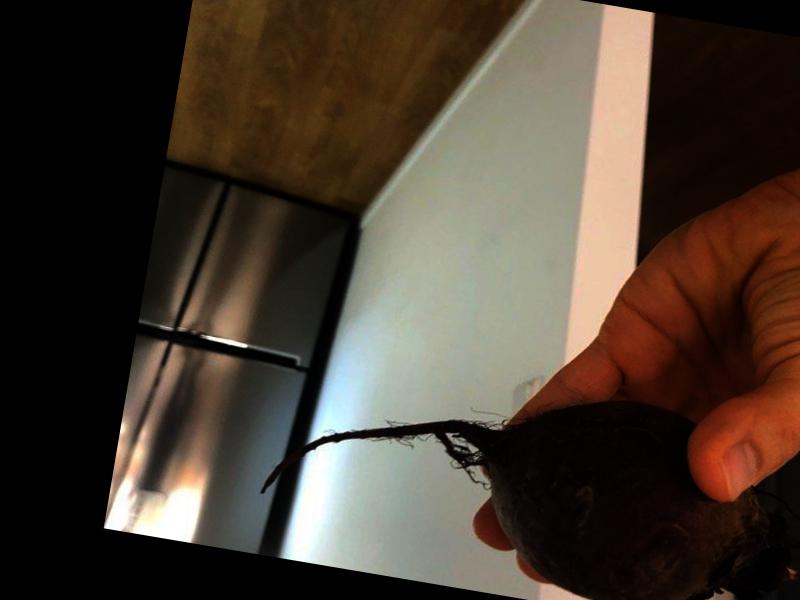Beet: (253, 347, 800, 600)
